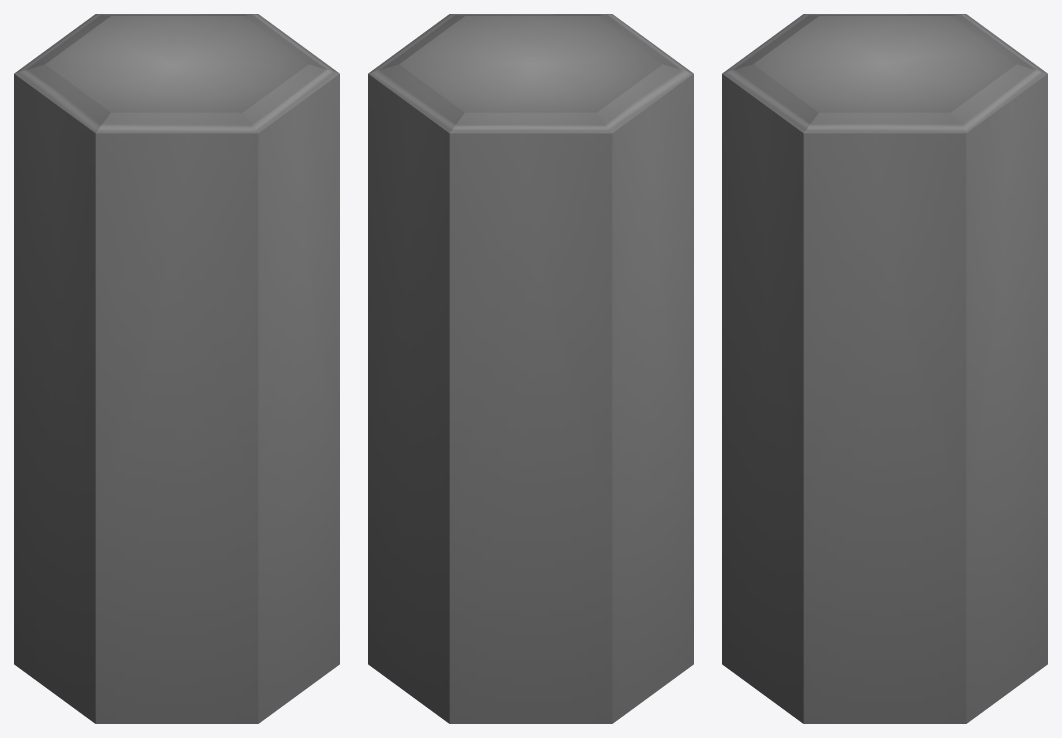
The model's file is HexaTilePointy.FBX.
3 renders of one model, left to right at view 1: azimuth 30°, elevation 25°; view 2: azimuth 150°, elevation 25°; view 3: azimuth 270°, elevation 25°, orthographic.
Visible parts, largest first — view 1: hexa_2; view 2: hexa_2; view 3: hexa_2.
Boxes of the visible parts, x1,y1,x2,y2 form: hexa_2: (14, 14, 339, 723); hexa_2: (368, 14, 693, 723); hexa_2: (722, 14, 1047, 723).
Bounding box in the file's own units: 86.6 × 203 × 100.
1 material, 1 textured.
